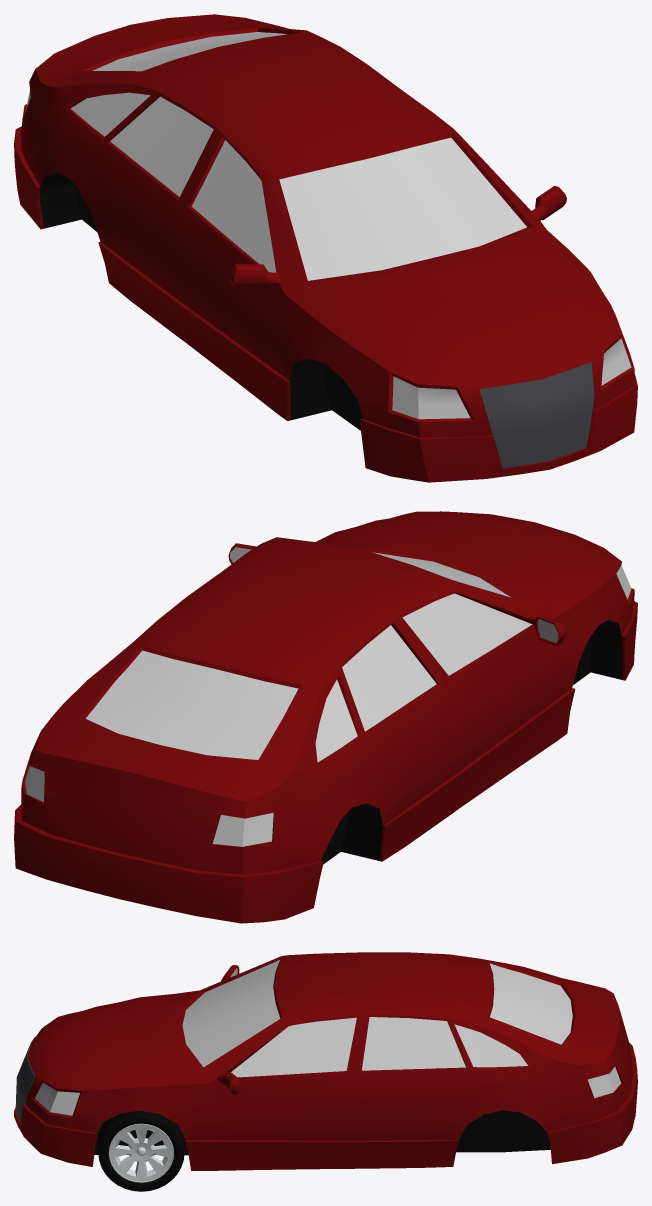
File: LowPolyCar1.obj
3 renders of one model, top to bottom at view 1: azimuth 30°, elevation 25°; view 2: azimuth 150°, elevation 25°; view 3: azimuth 270°, elevation 25°, orthographic. The views are drawn at different scales.
Parts seen in each view (by area): view 1: Car_lp.001_Cube.005; view 2: Car_lp.001_Cube.005; view 3: Car_lp.001_Cube.005, Wheel_rim_Cylinder.002.
Part boxes in pixels (<box>): Car_lp.001_Cube.005: <box>14,14,637,482</box>; Car_lp.001_Cube.005: <box>14,511,637,923</box>; Car_lp.001_Cube.005: <box>14,952,637,1170</box>; Wheel_rim_Cylinder.002: <box>98,1110,184,1191</box>.
Size of the model in its own units: 2.53 by 1.71 by 5.67.
